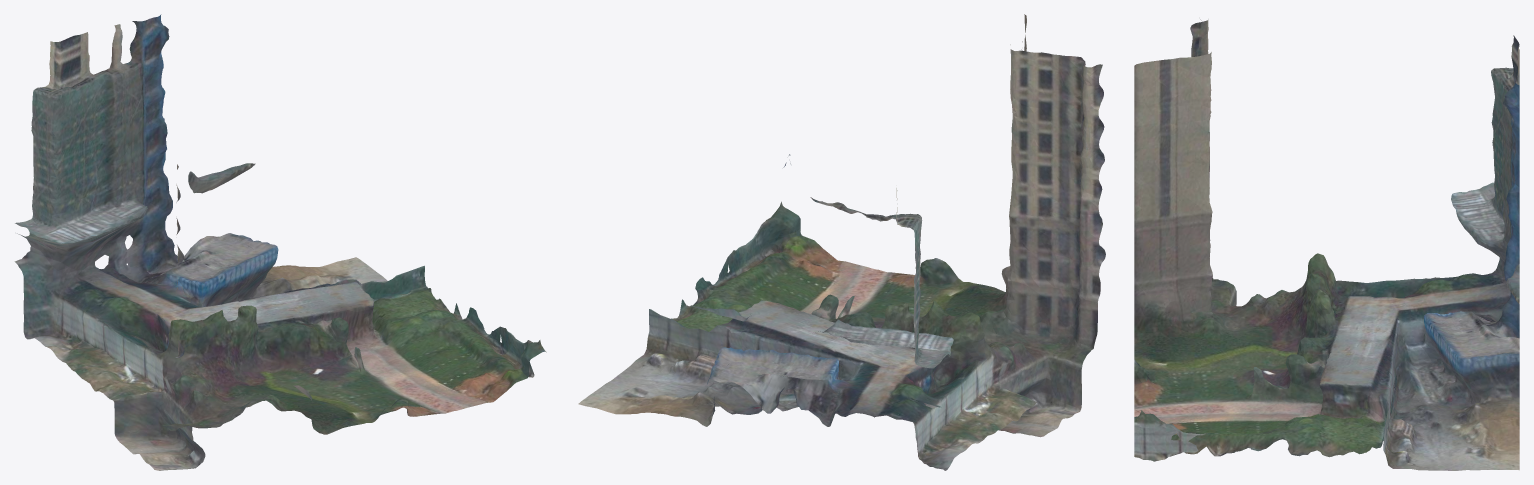
Rendered from Tile_+003_+001_L22_00020000.glb.
The picture shows the model from 3 angles, left to right: view 1: azimuth 30°, elevation 25°; view 2: azimuth 150°, elevation 25°; view 3: azimuth 270°, elevation 25°; orthographic projection. The views are drawn at different scales.
Visible parts, largest first — view 1: rtc; view 2: rtc; view 3: rtc.
Boxes of the visible parts, x1,y1,x2,y2 form: rtc: (14,14,546,470); rtc: (578,14,1105,470); rtc: (1134,19,1519,470).
Bounding box in the file's own units: 25.59 × 23.18 × 25.06.
Materials: 1 (1 with a texture image).
